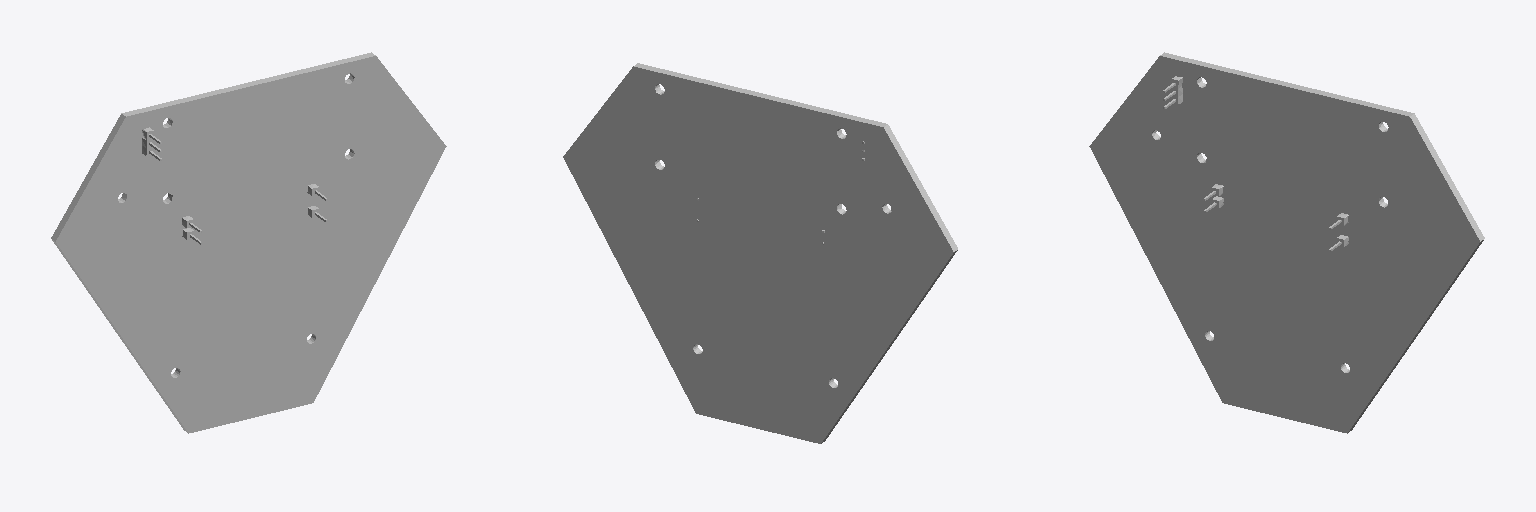
Rendered from OBJ_PCB_Performance Monitoring modified v2.obj.
3 views of the same model, side by side, from view 1: azimuth 30°, elevation 25°; view 2: azimuth 150°, elevation 25°; view 3: azimuth 330°, elevation 25° (orthographic).
Bounding box in the file's own units: 491 × 399 × 45.17.